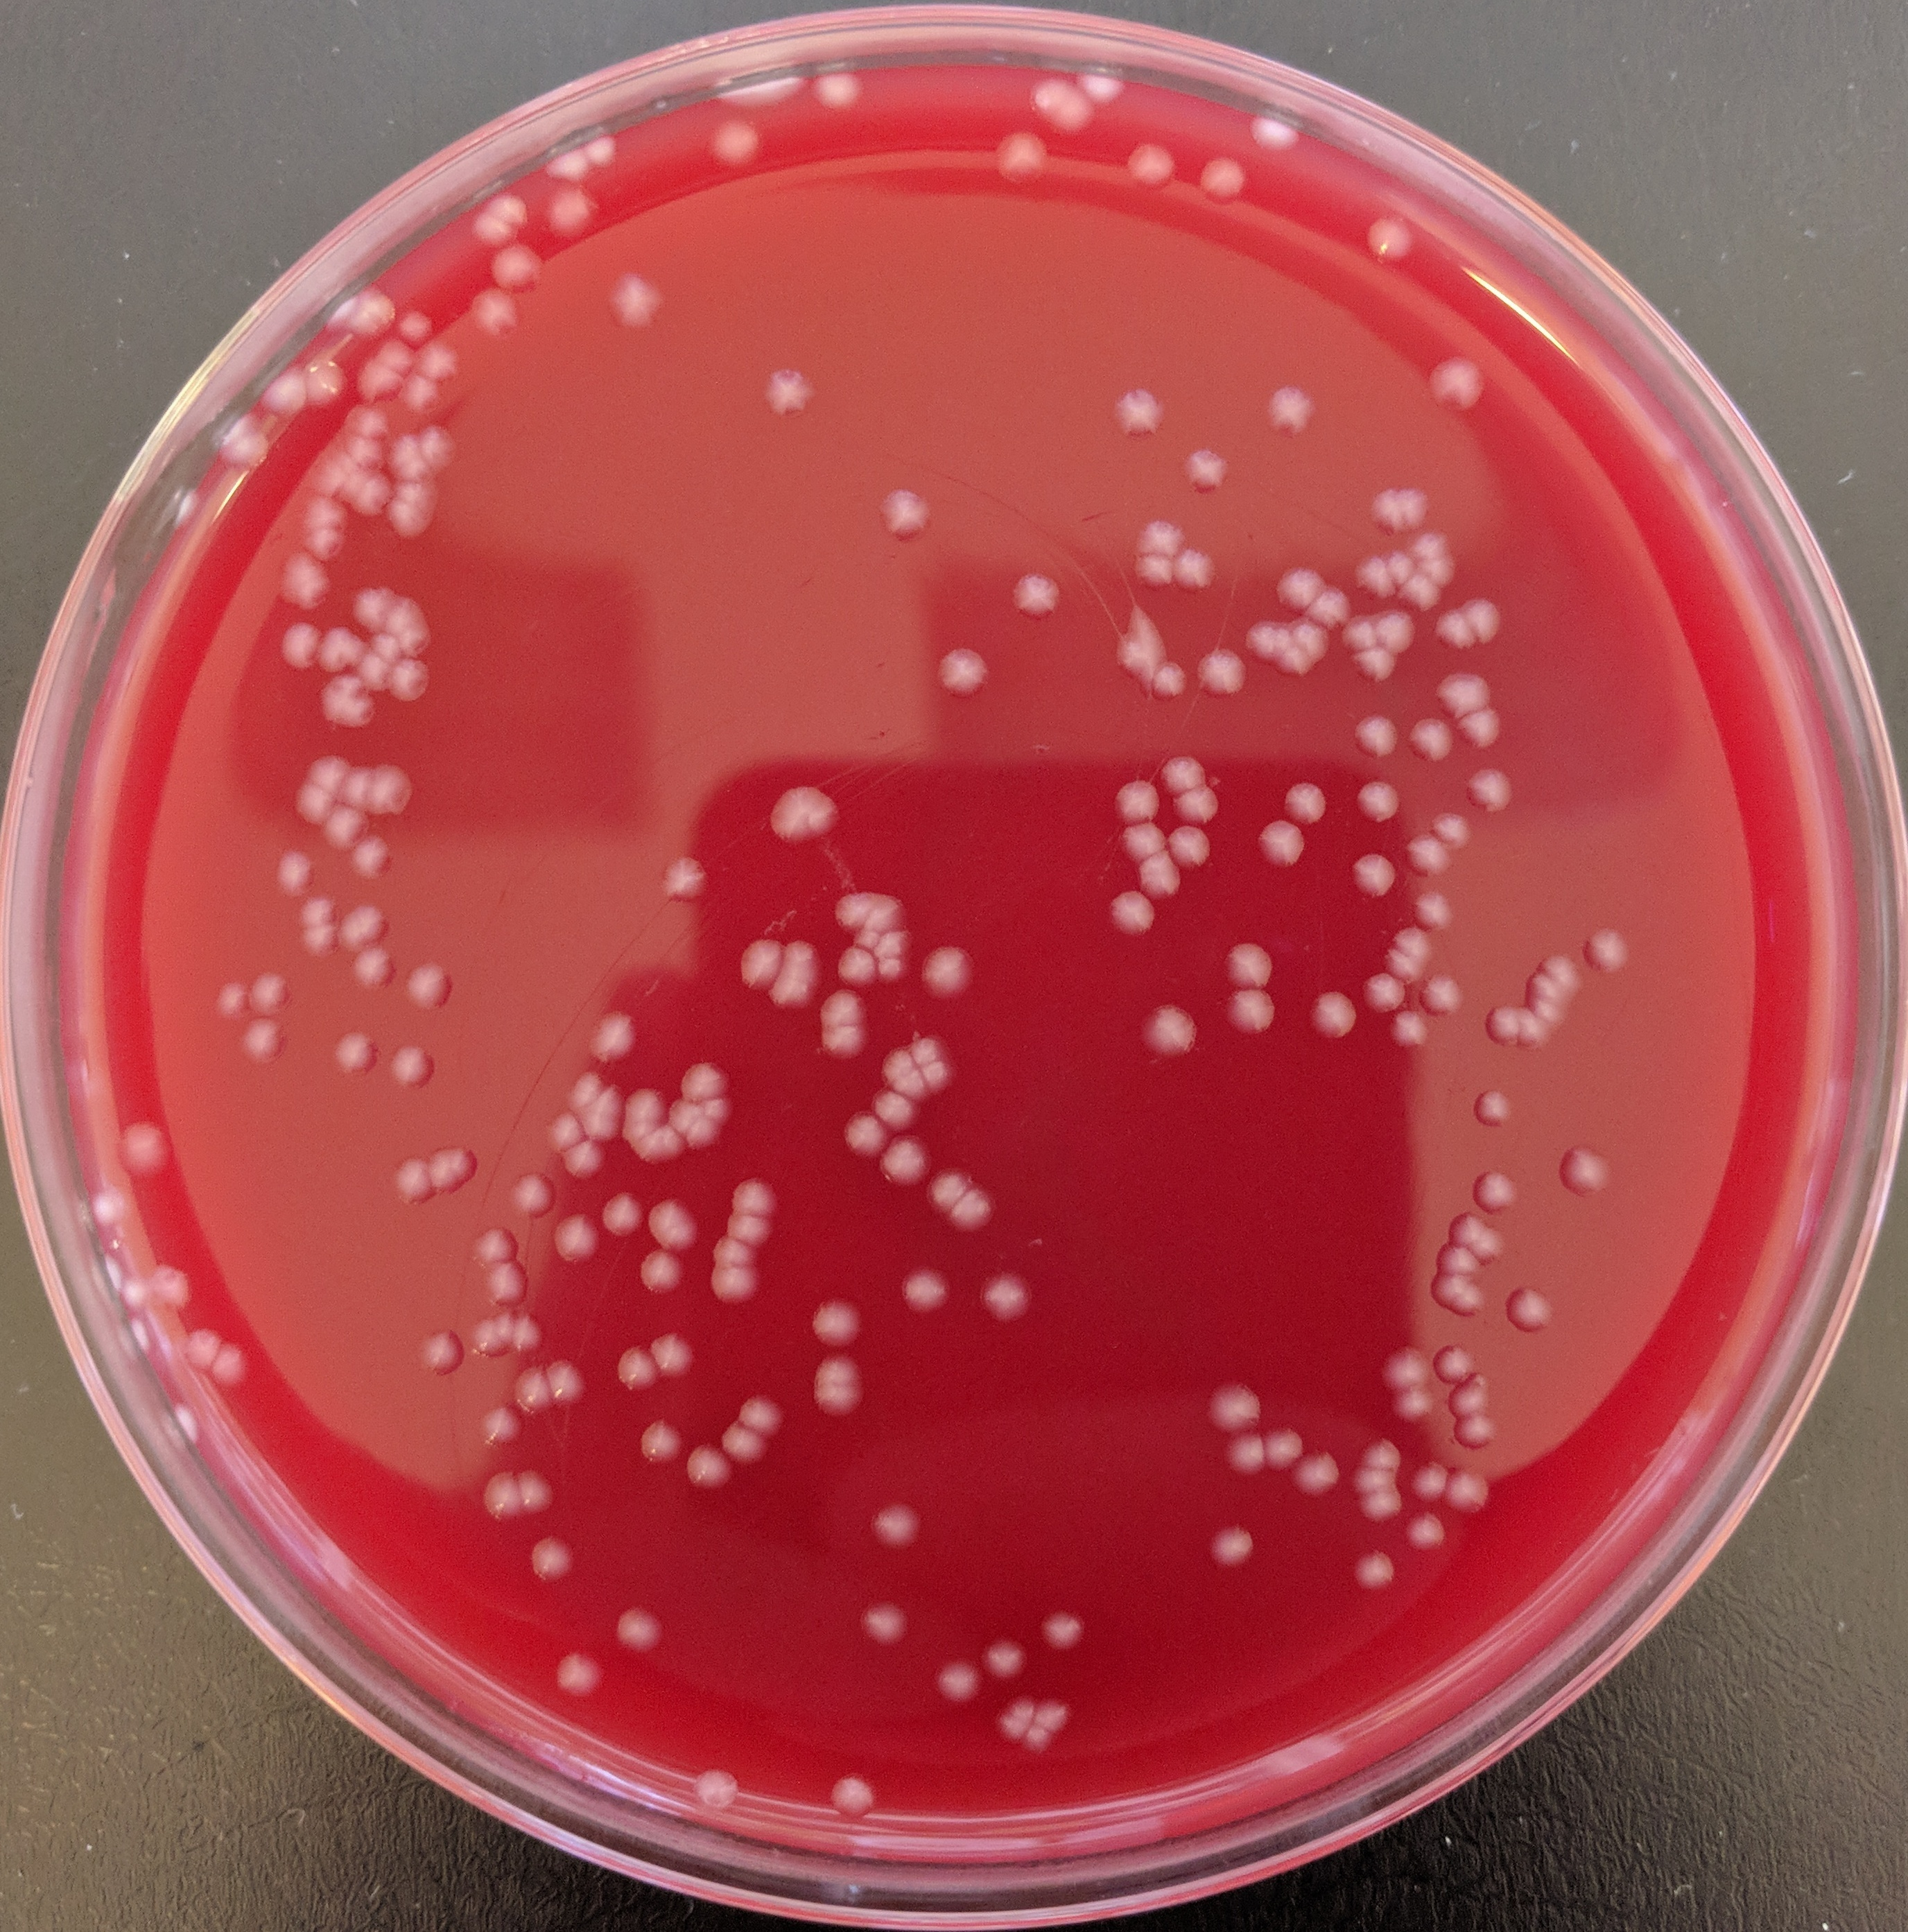sp18: (1103, 596, 1172, 694), (765, 773, 846, 853), (598, 266, 678, 334), (105, 1115, 183, 1184), (1125, 998, 1206, 1065), (1417, 344, 1490, 416), (547, 1638, 620, 1710), (867, 483, 947, 546), (1103, 383, 1176, 448), (805, 66, 886, 124), (916, 941, 991, 1000), (266, 551, 334, 615), (1214, 934, 1286, 995), (1197, 1378, 1269, 1439), (681, 1762, 755, 1822), (652, 850, 727, 907), (699, 114, 776, 170), (1256, 383, 1324, 446), (764, 934, 825, 1004), (218, 420, 288, 481), (975, 1271, 1041, 1334), (1553, 1136, 1614, 1205), (1008, 565, 1078, 624), (1113, 136, 1185, 194), (1354, 210, 1422, 269), (304, 678, 383, 729), (379, 1039, 453, 1093), (713, 1418, 778, 1479), (1431, 670, 1503, 724), (463, 281, 526, 343), (229, 1012, 299, 1067), (641, 1327, 713, 1380), (339, 288, 411, 341), (1101, 886, 1164, 946), (1503, 1278, 1566, 1338), (819, 1766, 884, 1824), (889, 1262, 959, 1315), (414, 1322, 475, 1381), (863, 1498, 926, 1556), (1457, 764, 1524, 818), (1398, 832, 1466, 885), (701, 1262, 769, 1315), (601, 1338, 660, 1397), (267, 619, 327, 678), (935, 1651, 991, 1713), (398, 960, 454, 1023), (985, 131, 1050, 185), (1218, 983, 1282, 1037), (725, 928, 779, 993), (853, 1596, 917, 1651), (501, 1168, 566, 1222), (587, 1004, 641, 1068), (938, 1184, 1005, 1236), (1172, 446, 1230, 505), (1171, 544, 1228, 603), (1303, 990, 1363, 1047), (837, 1107, 896, 1164), (543, 187, 603, 245), (379, 657, 442, 712), (295, 350, 349, 413), (323, 1026, 388, 1079), (489, 238, 554, 290), (543, 1212, 601, 1269), (610, 1596, 667, 1654), (266, 844, 323, 902), (1190, 152, 1249, 208), (1441, 1460, 1497, 1519), (143, 1257, 199, 1317), (633, 1420, 695, 1472), (337, 899, 400, 951), (755, 367, 821, 416), (928, 647, 994, 696), (1274, 776, 1331, 832), (1204, 1519, 1260, 1577), (1160, 820, 1220, 874), (849, 885, 917, 932), (1242, 103, 1303, 156), (1347, 712, 1408, 764), (676, 1439, 737, 1491), (1188, 649, 1253, 698), (384, 1150, 433, 1215), (1583, 921, 1637, 979), (917, 1163, 975, 1217), (811, 976, 870, 1028), (594, 1191, 653, 1243), (346, 944, 405, 997), (1344, 853, 1405, 904), (874, 1138, 935, 1189), (1214, 1428, 1275, 1479), (1286, 1449, 1349, 1498), (804, 1294, 867, 1343), (1251, 815, 1307, 869), (645, 1198, 701, 1252), (376, 500, 433, 552), (716, 1206, 783, 1252), (1351, 776, 1410, 827), (811, 1016, 872, 1065), (971, 1637, 1033, 1685), (1165, 780, 1228, 827), (474, 1264, 536, 1311), (1295, 589, 1359, 635), (288, 782, 342, 836), (1033, 1603, 1089, 1656), (316, 799, 369, 855), (348, 355, 404, 407), (524, 1532, 582, 1582), (311, 628, 369, 678), (631, 1121, 692, 1168), (465, 213, 528, 259), (1123, 547, 1176, 601), (1377, 1343, 1431, 1395), (1345, 1546, 1400, 1598), (507, 1366, 561, 1418), (1269, 563, 1324, 614), (1150, 747, 1206, 797), (395, 372, 446, 428), (723, 1171, 788, 1215), (638, 1245, 687, 1303), (463, 1224, 521, 1273), (510, 1465, 570, 1512), (1129, 518, 1190, 563), (1447, 703, 1508, 748), (729, 1390, 790, 1435), (475, 1399, 528, 1451), (1118, 817, 1174, 865), (1403, 878, 1452, 934), (1443, 1371, 1499, 1420), (556, 1136, 612, 1185), (243, 969, 299, 1018), (342, 829, 391, 885), (1532, 953, 1592, 998), (1137, 848, 1188, 900), (1417, 969, 1469, 1019), (477, 1470, 528, 1523), (370, 761, 423, 811), (416, 427, 468, 477), (255, 372, 306, 425), (1457, 594, 1513, 642), (1349, 642, 1405, 689), (1106, 778, 1162, 825), (863, 1089, 919, 1136), (1424, 608, 1482, 654), (1405, 708, 1450, 766), (1468, 1166, 1525, 1212), (1354, 969, 1414, 1012), (89, 1184, 138, 1236), (830, 942, 884, 990), (542, 1355, 587, 1411), (418, 1145, 463, 1201), (542, 149, 598, 194), (1517, 972, 1580, 1012), (328, 427, 388, 469), (671, 1061, 736, 1100), (1389, 1004, 1440, 1053), (1452, 1409, 1504, 1456), (1260, 1425, 1312, 1472), (412, 343, 465, 390), (294, 497, 348, 542), (819, 883, 881, 923), (348, 584, 397, 633), (1143, 656, 1190, 706), (302, 750, 353, 797), (571, 1105, 633, 1143), (349, 476, 405, 518), (1466, 1084, 1515, 1131), (168, 1393, 204, 1456), (1401, 1507, 1452, 1553), (1387, 923, 1443, 963), (1349, 554, 1394, 603), (337, 761, 383, 810), (1027, 1694, 1085, 1733), (666, 1091, 716, 1135), (297, 921, 348, 965), (1471, 997, 1513, 1049), (1520, 993, 1573, 1035), (393, 304, 446, 346), (292, 895, 346, 935), (480, 191, 535, 231), (1288, 615, 1333, 663), (1431, 1338, 1476, 1385), (1387, 1383, 1434, 1428), (1366, 488, 1410, 537), (124, 1313, 159, 1374), (175, 472, 204, 544), (1274, 645, 1324, 687), (1407, 1456, 1448, 1507), (1024, 75, 1076, 115), (1351, 1460, 1403, 1500), (1475, 1219, 1518, 1266), (176, 1327, 220, 1374), (395, 479, 442, 523), (1391, 577, 1447, 614), (706, 1236, 762, 1273), (301, 526, 349, 568), (1415, 552, 1466, 593), (1080, 66, 1132, 105), (367, 336, 419, 374), (888, 1061, 933, 1105), (112, 1266, 154, 1313), (215, 1343, 255, 1392), (1359, 1486, 1405, 1528), (697, 1093, 746, 1131), (1048, 101, 1099, 138), (812, 1350, 863, 1386), (812, 1376, 863, 1413), (1431, 806, 1473, 850), (383, 435, 426, 477), (1375, 607, 1421, 647), (914, 1060, 959, 1100), (1361, 1435, 1407, 1476), (1379, 946, 1426, 984), (342, 399, 391, 435), (1443, 1206, 1485, 1248), (208, 981, 250, 1023), (1337, 615, 1382, 654), (1239, 619, 1277, 664), (508, 1310, 547, 1355), (905, 1037, 952, 1074), (1382, 551, 1424, 591), (561, 1068, 601, 1110), (582, 1077, 624, 1117), (683, 1117, 722, 1161), (444, 1147, 489, 1184), (619, 1082, 664, 1119), (388, 460, 433, 497), (1434, 1243, 1482, 1278), (470, 1318, 505, 1366), (1511, 1007, 1550, 1049), (998, 1689, 1040, 1727), (1424, 1269, 1469, 1304), (363, 626, 404, 664), (867, 921, 916, 953), (989, 1710, 1031, 1747), (1455, 1282, 1490, 1325), (1412, 530, 1462, 559), (1015, 1717, 1055, 1754), (353, 654, 390, 694), (547, 1110, 582, 1152), (613, 1112, 662, 1142), (879, 1047, 917, 1084), (1263, 626, 1298, 664), (872, 949, 910, 983), (395, 628, 437, 657), (847, 918, 882, 953), (1410, 488, 1434, 537), (489, 1308, 522, 1343), (584, 136, 620, 163)
